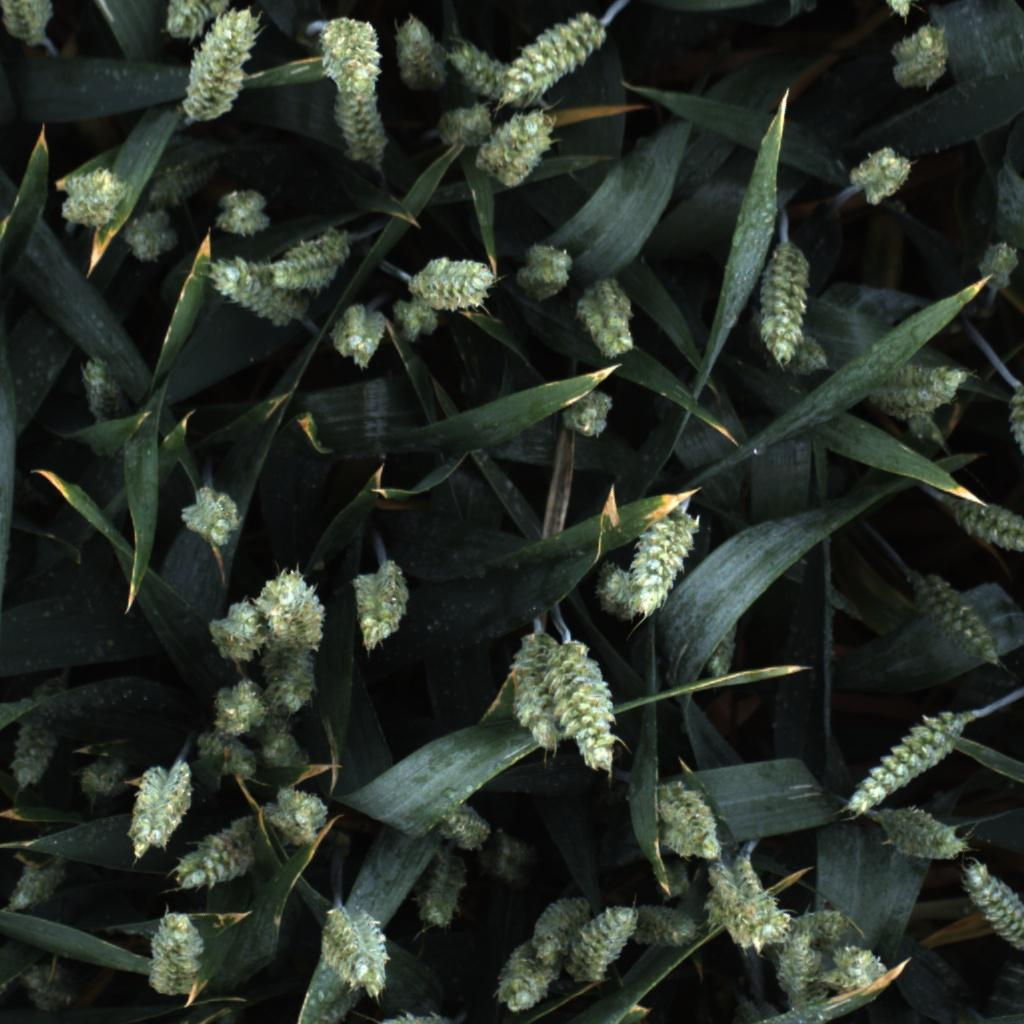0-0: (841, 710, 963, 813), (896, 568, 1005, 673), (178, 4, 265, 125), (551, 641, 622, 780), (747, 237, 814, 374), (503, 14, 602, 105), (504, 634, 570, 761), (311, 902, 396, 996), (123, 755, 194, 860), (632, 511, 698, 623), (707, 859, 784, 955), (165, 818, 257, 896), (203, 254, 295, 331), (135, 908, 211, 1000), (566, 895, 642, 983), (477, 108, 561, 186), (311, 11, 387, 97), (955, 856, 1024, 950), (259, 559, 334, 643), (650, 781, 724, 865), (172, 479, 254, 554), (881, 20, 964, 93), (940, 503, 1024, 575), (867, 363, 976, 418), (406, 251, 505, 311), (332, 86, 401, 170), (348, 562, 409, 653), (842, 139, 917, 212), (267, 231, 352, 295), (575, 273, 636, 361), (386, 10, 452, 91), (881, 804, 965, 865), (69, 353, 135, 424), (59, 165, 133, 228), (491, 936, 547, 1019), (4, 715, 60, 797), (417, 847, 469, 935), (262, 785, 338, 845), (510, 241, 579, 306), (204, 597, 267, 667), (530, 893, 588, 969), (446, 28, 514, 92), (787, 891, 856, 954), (769, 926, 825, 1002), (632, 897, 704, 956), (260, 648, 324, 714), (481, 826, 547, 890), (326, 305, 387, 373), (823, 944, 891, 1004), (140, 156, 221, 206), (206, 676, 270, 737), (119, 205, 182, 266), (422, 101, 498, 151), (0, 864, 70, 917), (209, 185, 279, 238), (962, 236, 1024, 294), (587, 550, 638, 620), (252, 719, 310, 780), (194, 730, 257, 785), (154, 0, 230, 44), (706, 588, 738, 692), (560, 383, 616, 441), (18, 961, 76, 1015), (386, 297, 447, 344), (77, 751, 129, 806), (433, 797, 488, 849), (0, 0, 59, 46), (783, 328, 834, 366), (1002, 381, 1024, 461), (348, 1008, 452, 1024)
